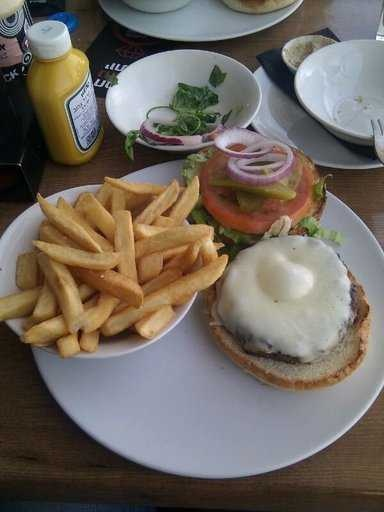hamburger: (181, 126, 371, 393)
